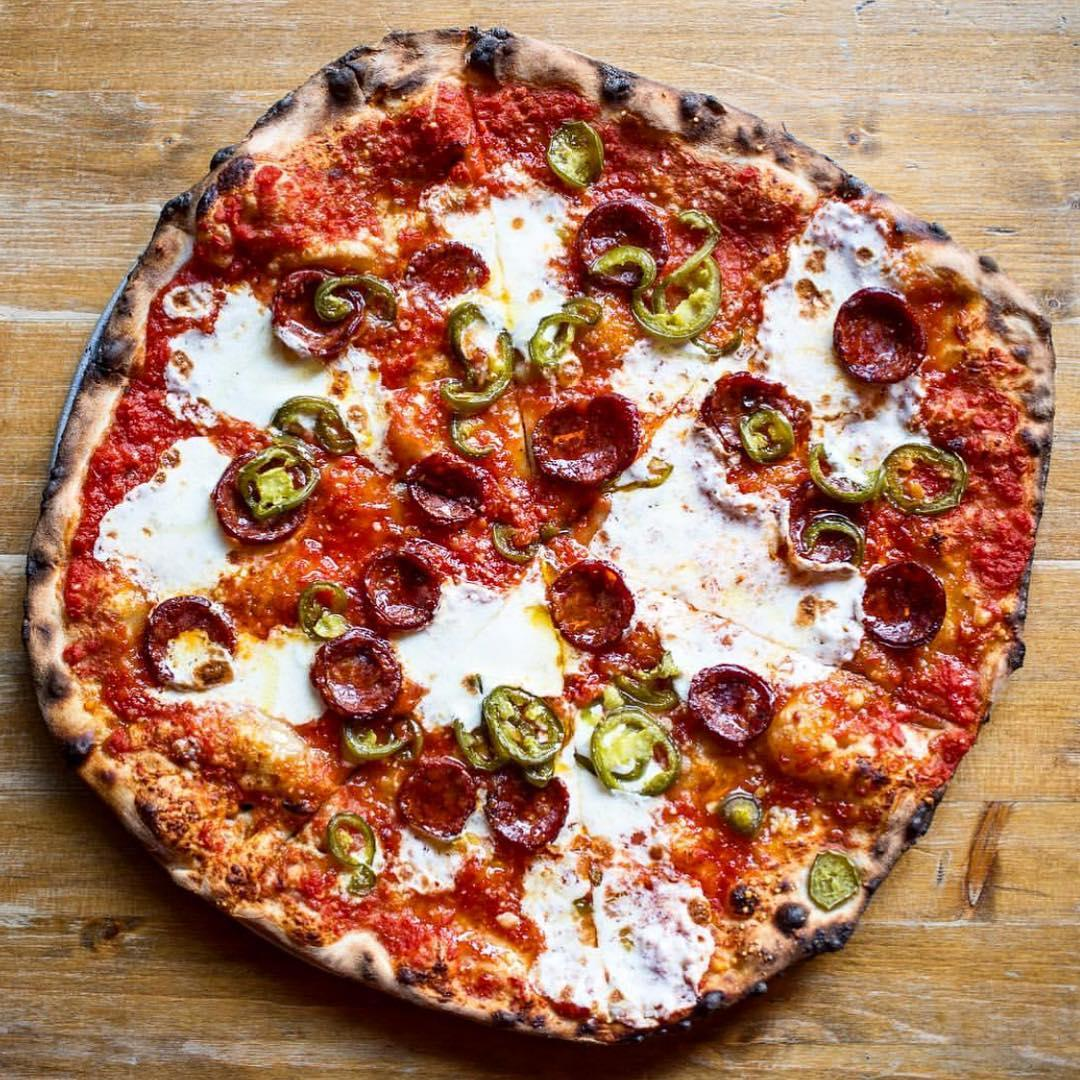Pepperoni: (204, 438, 305, 543), (828, 281, 918, 390), (254, 271, 358, 365), (528, 401, 632, 485), (148, 594, 232, 687), (708, 374, 792, 463), (548, 561, 627, 647), (317, 638, 403, 716), (784, 494, 863, 578), (578, 201, 652, 290), (689, 668, 772, 747), (408, 454, 485, 536), (401, 241, 487, 314), (864, 568, 938, 643), (488, 774, 561, 847), (368, 554, 436, 629), (401, 758, 469, 832)
Peppers: (884, 438, 976, 527), (641, 258, 718, 350), (527, 290, 607, 375), (584, 708, 667, 789), (438, 311, 507, 403), (261, 391, 354, 454), (597, 654, 684, 720), (328, 714, 420, 768), (324, 810, 381, 895), (234, 448, 305, 514), (488, 681, 556, 747), (531, 118, 605, 178), (298, 268, 361, 327), (674, 208, 722, 277), (288, 584, 345, 636), (719, 789, 766, 841), (741, 414, 787, 463), (811, 854, 849, 912)
Pizza: (31, 34, 1049, 1049)
